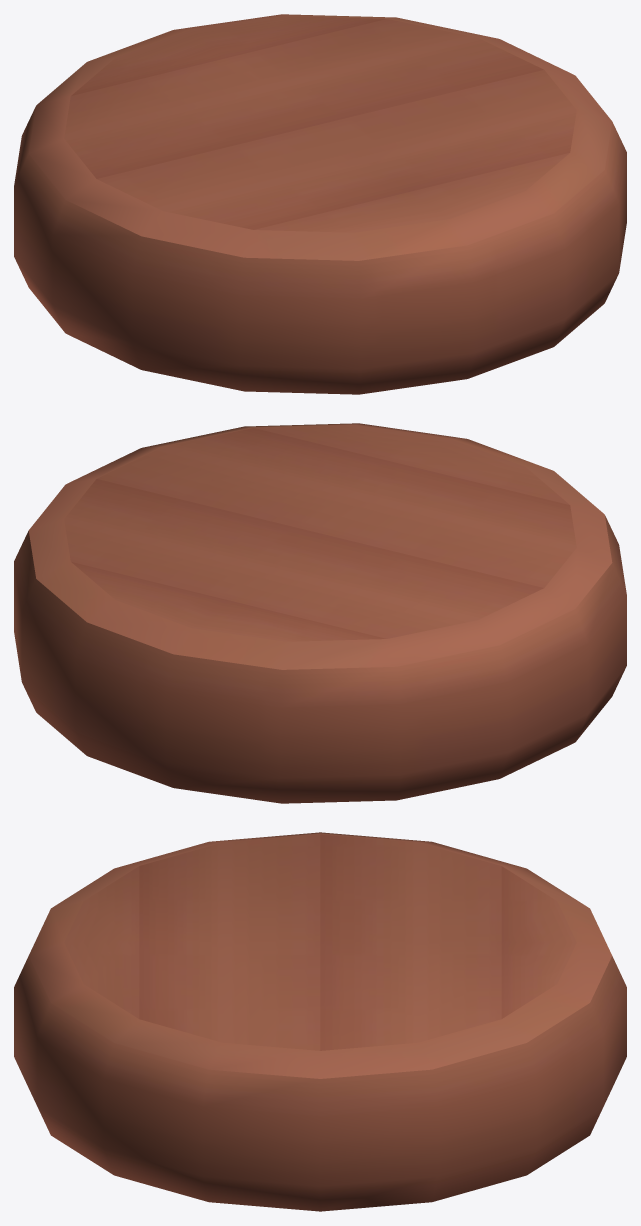
File: kaykit-restaurant-bits-food-ingredient-burger-cooked.glb
3 views of the same model, one above another, from view 1: azimuth 30°, elevation 25°; view 2: azimuth 150°, elevation 25°; view 3: azimuth 270°, elevation 25° (orthographic).
Parts seen in each view (by area): view 1: food_ingredient_burger_cooked; view 2: food_ingredient_burger_cooked; view 3: food_ingredient_burger_cooked.
Part boxes in pixels (bbox=[...]): food_ingredient_burger_cooked: bbox=[14, 14, 626, 394]; food_ingredient_burger_cooked: bbox=[14, 423, 626, 803]; food_ingredient_burger_cooked: bbox=[14, 832, 626, 1211].
Bounding box in the file's own units: 0.7 × 0.2 × 0.7.
Materials: 1 (1 with a texture image).
